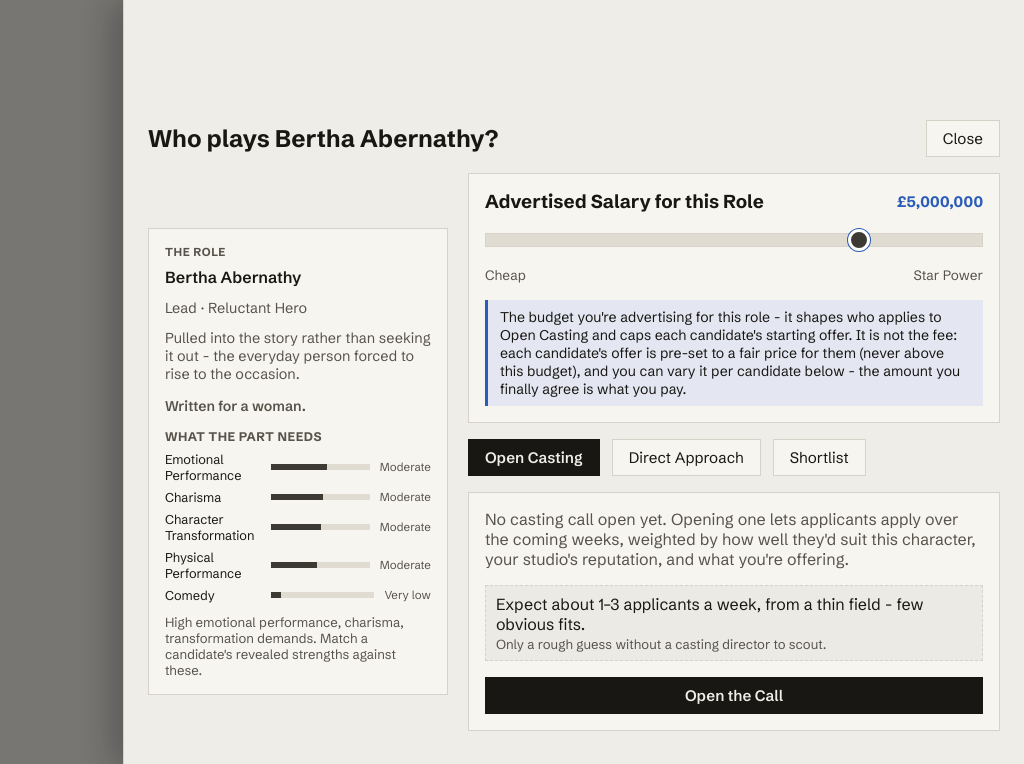
Test: CastingDrawer - candidate reasoning chips › shows a pre-offer read (expected ask + odds) on a candidate before any offer is made
This screenshot has width=1024, height=764.
Click the button "Direct Approach" at [686, 458], box [612, 439, 761, 476]
(page scrolled)
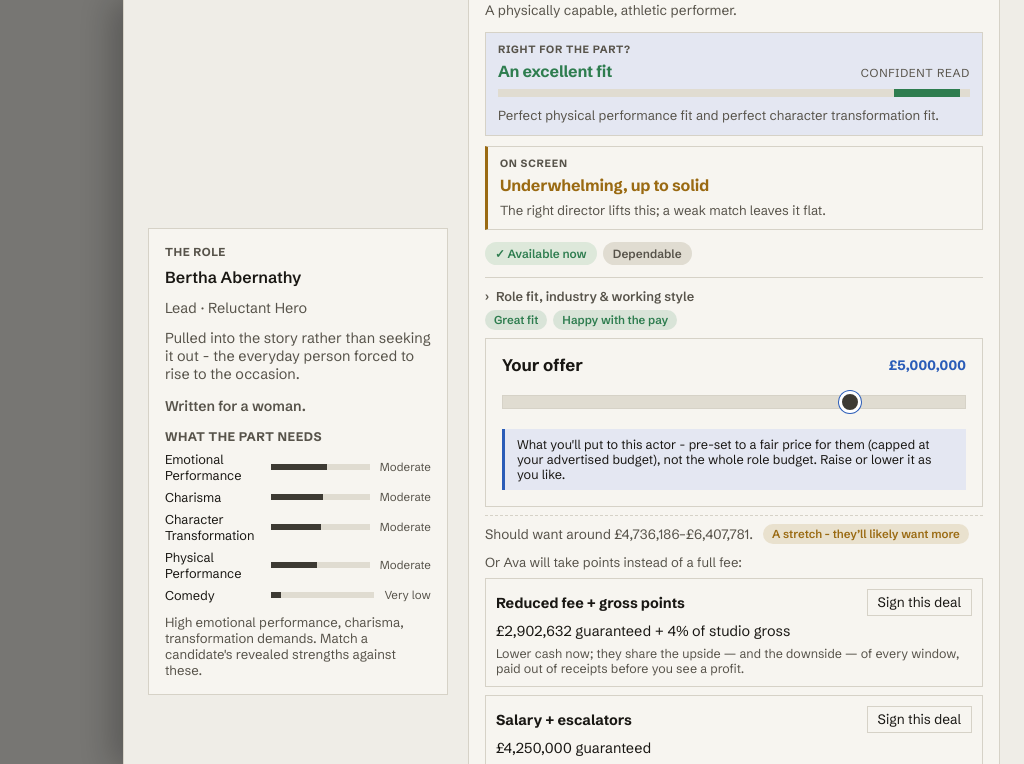
Expected: the element with class "candidate-estimate" is shown, [485, 515, 983, 544]
